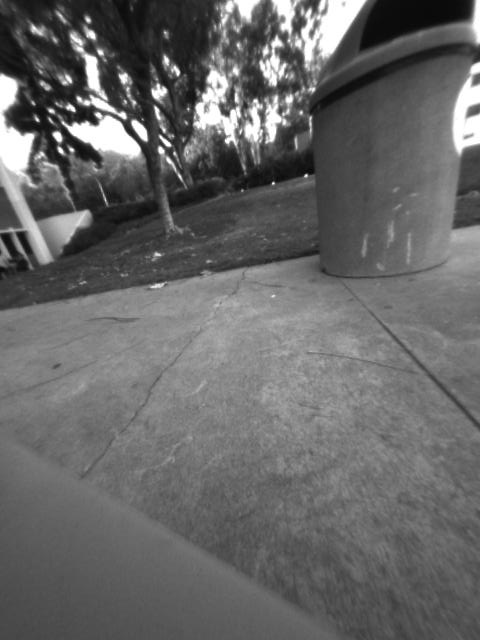trashcan: (310, 1, 480, 288)
